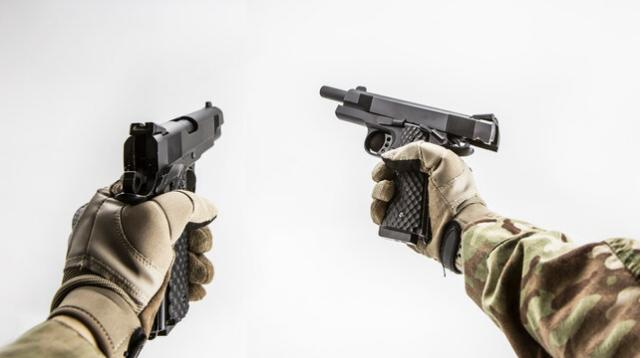handgun: (316, 80, 504, 250), (110, 98, 228, 344)
